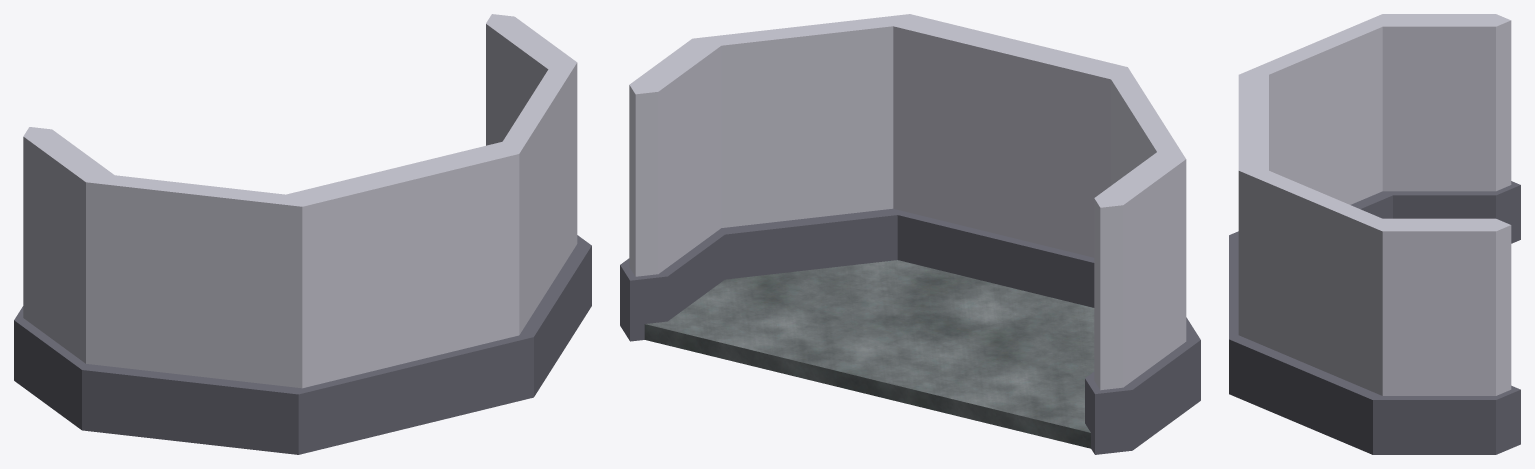
File: hallway_end_04.fbx
3 views of the same model, side by side, from view 1: azimuth 30°, elevation 25°; view 2: azimuth 150°, elevation 25°; view 3: azimuth 270°, elevation 25° (orthographic). The views are drawn at different scales.
Parts seen in each view (by area): view 1: corner_02_89, corner_02_88; view 2: corner_02_88, corner_02_89, floor_10_87; view 3: corner_02_88, corner_02_89.
Part boxes in pixels (x1,y1,x2,y2): corner_02_89: [14, 127, 416, 454]; corner_02_88: [389, 14, 591, 425]; corner_02_88: [620, 14, 1022, 341]; corner_02_89: [993, 40, 1200, 454]; floor_10_87: [644, 260, 1094, 448]; corner_02_88: [1229, 116, 1520, 454]; corner_02_89: [1229, 14, 1520, 290].
Bounding box in the file's own units: 22.05 × 10 × 12.05.
